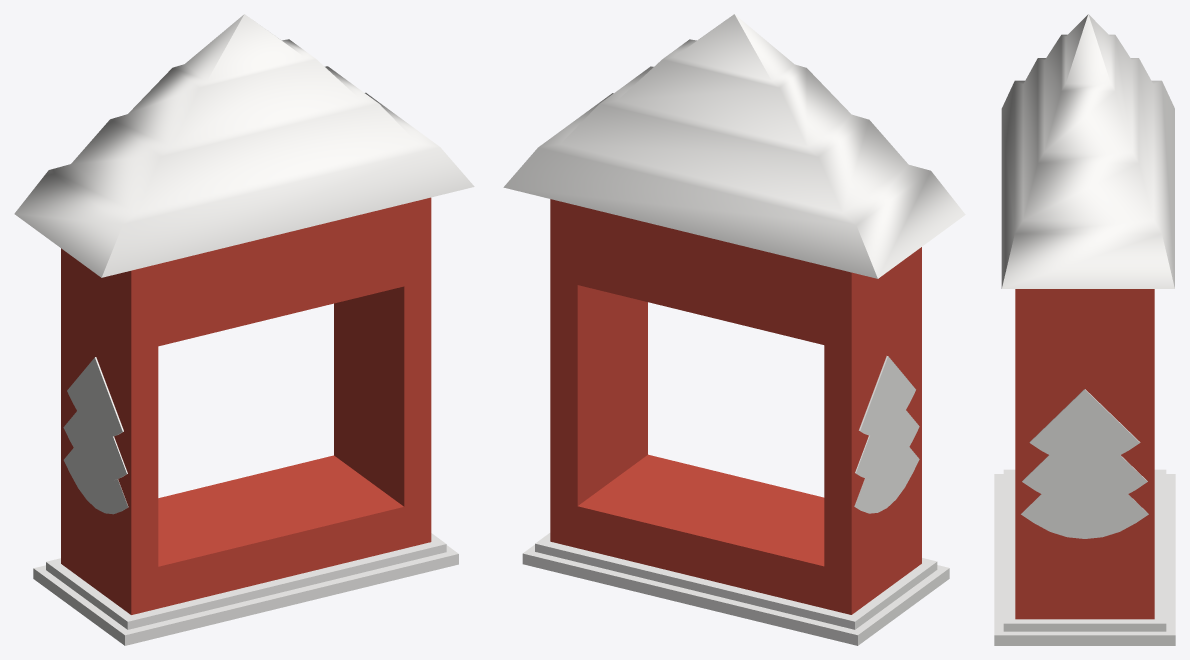
File: Christmas_Factory_device_1_231109.glb
3 views of the same model, side by side, from view 1: azimuth 30°, elevation 25°; view 2: azimuth 150°, elevation 25°; view 3: azimuth 270°, elevation 25° (orthographic).
Parts seen in each view (by area): view 1: Factory_device_1; view 2: Factory_device_1; view 3: Factory_device_1.
Part boxes in pixels (left/top/right/bottom): Factory_device_1: left=14, top=14, right=474, bottom=645; Factory_device_1: left=503, top=14, right=965, bottom=645; Factory_device_1: left=994, top=14, right=1175, bottom=645.
Size of the model in its own units: 1.35 by 1.93 by 0.5743.
Materials: 1 (1 with a texture image).
